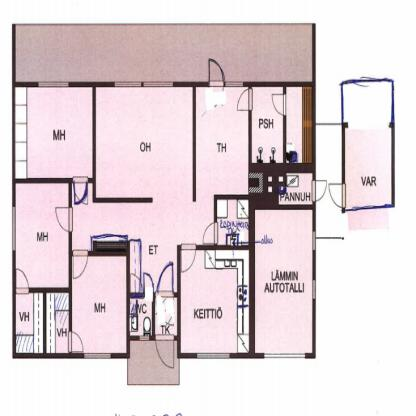door: (155, 261, 175, 295), (157, 336, 176, 370), (71, 248, 89, 282), (54, 204, 73, 236), (327, 181, 347, 209), (207, 59, 227, 86), (73, 178, 89, 210), (311, 178, 329, 204), (181, 244, 196, 275), (235, 88, 252, 112), (201, 223, 219, 244), (130, 273, 145, 298), (270, 93, 287, 115), (16, 267, 29, 294), (67, 333, 84, 353), (144, 273, 156, 300)
window: (263, 351, 307, 357), (197, 351, 230, 359), (84, 353, 110, 361), (12, 207, 16, 251), (39, 80, 68, 86), (144, 81, 173, 87), (115, 80, 142, 86), (227, 80, 242, 89), (312, 234, 316, 249), (312, 283, 316, 298)
zone: (16, 87, 249, 353), (14, 25, 313, 81), (96, 85, 192, 197), (254, 210, 311, 353), (181, 246, 249, 352), (341, 78, 395, 206), (18, 87, 93, 178), (193, 87, 247, 195), (17, 184, 69, 284), (73, 256, 126, 351), (250, 87, 284, 161), (127, 342, 179, 382), (286, 86, 312, 164), (44, 293, 70, 352), (17, 295, 43, 353), (214, 199, 249, 242), (279, 171, 313, 207)
